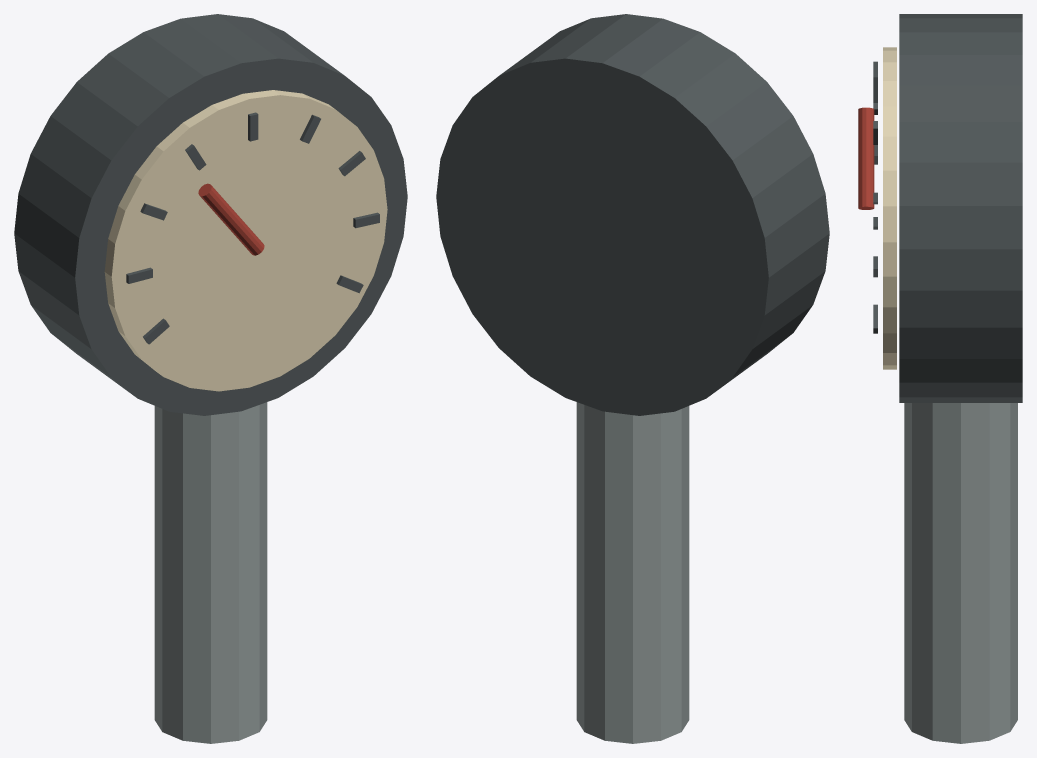
Rendered from TOOL_Gauge.glb.
The picture shows the model from 3 angles, left to right: view 1: azimuth 30°, elevation 25°; view 2: azimuth 150°, elevation 25°; view 3: azimuth 270°, elevation 25°; orthographic projection.
Visible parts, largest first — view 1: DialFace, DialCase, Stem, Ticks, Needle; view 2: DialCase, Stem; view 3: DialCase, Stem, DialFace, Needle, Ticks.
Part boxes in pixels (box(x1,y1,x2,y2)): DialFace: box(104, 90, 387, 391); DialCase: box(14, 14, 407, 415); Stem: box(154, 402, 267, 743); Ticks: box(126, 112, 379, 344); Needle: box(198, 183, 264, 255); DialCase: box(436, 14, 829, 415); Stem: box(576, 402, 689, 743); DialCase: box(899, 14, 1022, 402); Stem: box(904, 403, 1017, 743); DialFace: box(883, 47, 896, 369); Needle: box(858, 107, 874, 209); Ticks: box(873, 61, 877, 333).
Size of the model in its own units: 0.082 by 0.16 by 0.0347.
